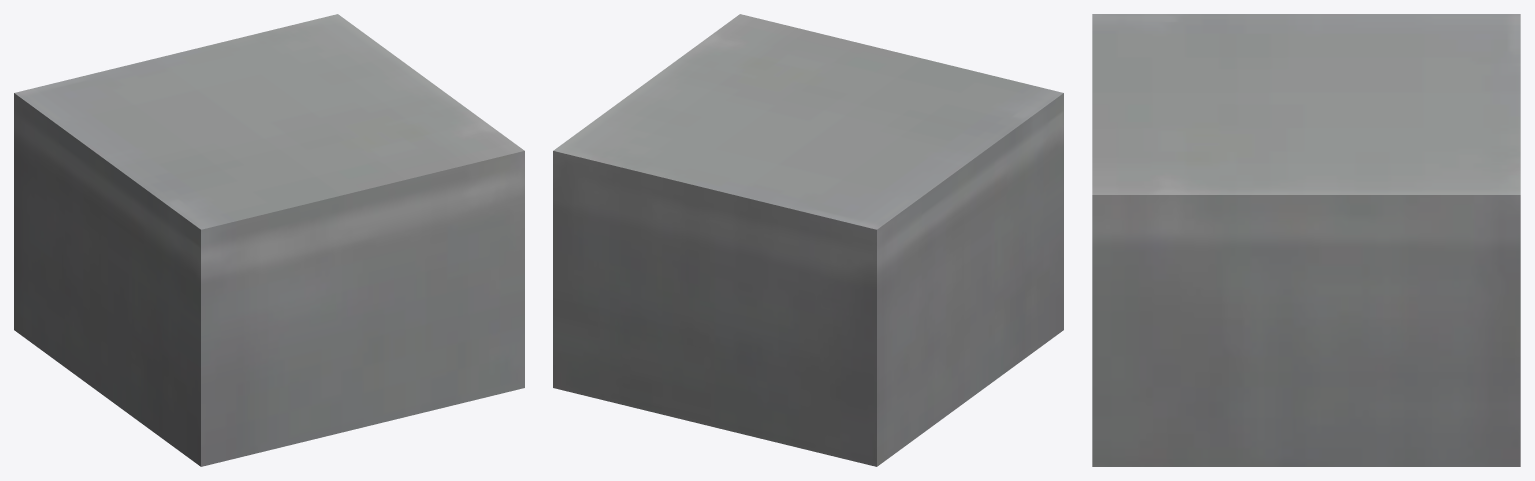
The model's file is frame__brace_hinge_sideweb_1.glb.
3 renders of one model, left to right at view 1: azimuth 30°, elevation 25°; view 2: azimuth 150°, elevation 25°; view 3: azimuth 270°, elevation 25°, orthographic. The views are drawn at different scales.
Parts seen in each view (by area): view 1: geometry_0; view 2: geometry_0; view 3: geometry_0.
Part boxes in pixels (x1,y1,x2,y2): geometry_0: (14, 14, 524, 466); geometry_0: (553, 14, 1063, 466); geometry_0: (1092, 14, 1520, 466).
Size of the model in its own units: 0.05 by 0.035 by 0.05.
Materials: 1 (1 with a texture image).
